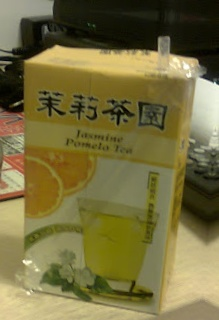鋁箔包: (2, 35, 206, 320), (217, 51, 219, 320)
